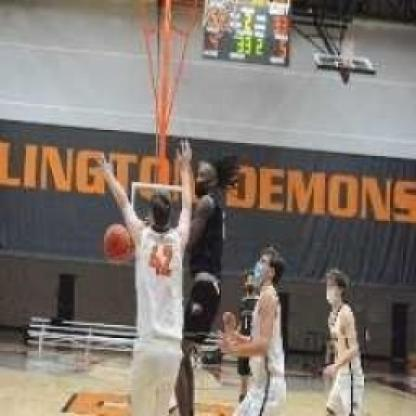basketball: (105, 223, 131, 262)
